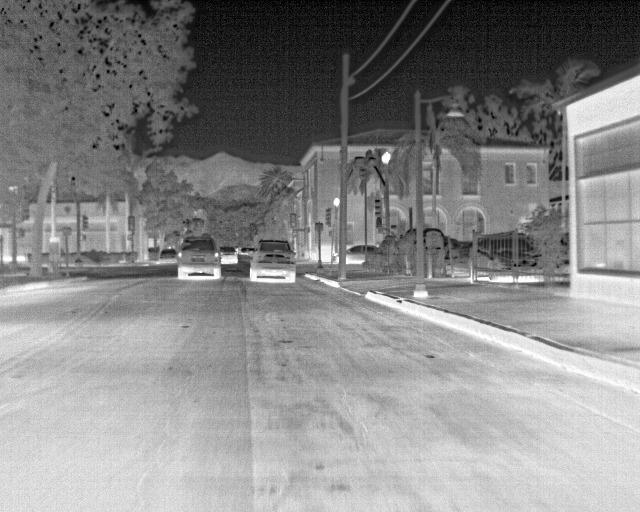bicycle: (174, 235, 222, 281), (249, 238, 295, 281), (342, 244, 379, 265), (219, 246, 241, 266), (158, 248, 177, 263)
